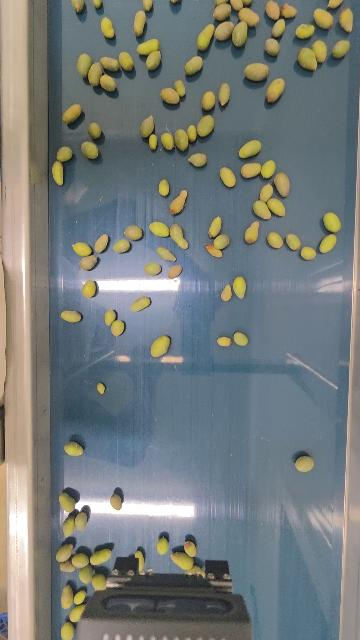Baby Potato: (264, 76, 286, 103), (243, 61, 270, 83), (196, 23, 216, 52), (168, 223, 189, 250), (297, 46, 318, 72), (312, 6, 335, 29), (168, 189, 188, 215), (231, 21, 250, 48), (150, 334, 171, 358), (238, 139, 262, 160), (273, 171, 291, 198), (238, 6, 261, 27), (61, 102, 82, 124), (214, 20, 235, 42), (322, 210, 342, 233), (136, 37, 160, 56), (196, 114, 215, 138), (184, 54, 204, 76), (252, 199, 272, 221), (311, 39, 329, 63), (338, 6, 354, 33), (170, 551, 194, 569), (244, 220, 261, 245), (331, 38, 351, 59), (267, 196, 287, 217), (132, 9, 147, 37), (319, 233, 338, 255), (87, 61, 104, 85), (51, 160, 66, 187), (76, 52, 92, 77), (160, 86, 181, 105), (294, 454, 315, 473), (219, 166, 237, 188), (213, 1, 232, 21), (130, 295, 151, 313), (58, 492, 76, 513), (174, 127, 189, 152), (232, 275, 247, 300), (90, 548, 112, 565), (240, 162, 262, 179), (80, 140, 99, 159), (295, 22, 316, 39), (118, 50, 135, 71), (56, 542, 73, 563), (145, 49, 162, 70), (99, 55, 120, 72), (261, 158, 277, 180), (60, 308, 82, 324), (208, 215, 223, 238), (100, 16, 115, 39), (266, 231, 284, 250), (99, 73, 117, 92), (64, 440, 84, 457), (218, 81, 231, 107), (62, 513, 75, 539), (140, 115, 155, 137), (61, 584, 74, 609), (124, 224, 143, 241), (264, 37, 281, 56), (285, 232, 302, 251), (79, 254, 98, 271), (156, 246, 176, 262), (265, 0, 281, 20), (72, 241, 92, 257), (149, 221, 169, 237), (271, 18, 287, 38), (94, 233, 109, 254), (201, 90, 216, 111), (69, 604, 86, 622), (60, 621, 76, 640), (188, 152, 208, 167), (160, 131, 175, 151), (280, 2, 297, 19), (56, 145, 73, 162), (71, 552, 89, 568), (259, 182, 274, 201), (91, 572, 106, 591), (74, 510, 88, 530), (112, 238, 130, 253), (144, 261, 162, 276), (82, 279, 96, 298), (205, 244, 224, 258), (214, 233, 230, 249), (300, 245, 316, 261), (78, 566, 93, 583), (88, 121, 102, 139), (111, 319, 125, 337), (167, 264, 183, 279), (135, 550, 145, 574), (183, 540, 197, 557), (73, 589, 87, 606), (156, 537, 169, 555), (174, 78, 186, 97), (220, 283, 232, 302), (233, 331, 248, 346), (158, 179, 170, 197), (186, 123, 197, 142), (104, 309, 117, 325), (110, 493, 122, 510), (70, 0, 85, 13), (216, 335, 232, 347), (326, 0, 345, 10), (230, 0, 245, 11), (148, 134, 158, 150), (141, 0, 154, 11), (96, 382, 105, 394), (239, 0, 254, 7), (91, 0, 102, 8), (169, 0, 180, 5)
